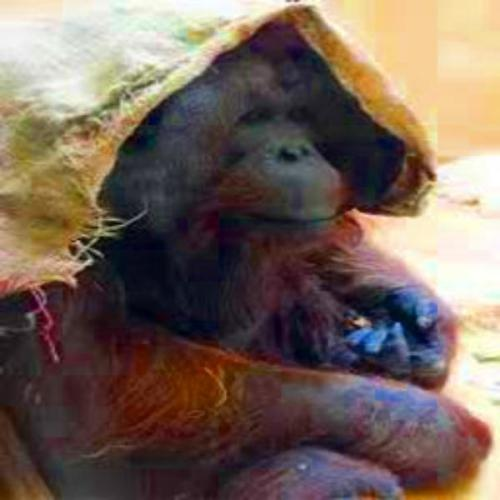orangutan-endangered: (20, 36, 491, 499)
